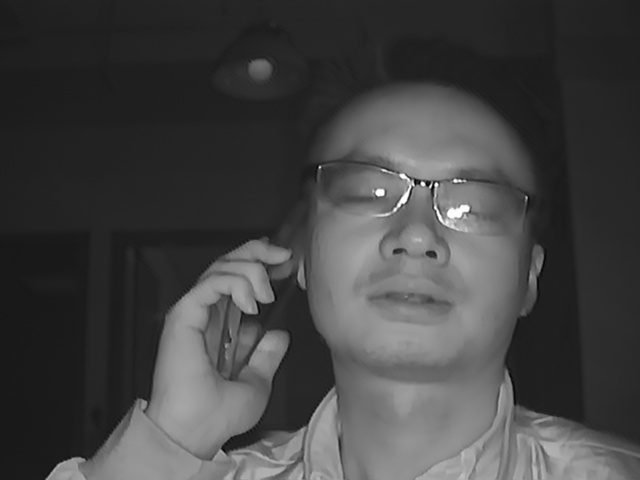hand: (146, 232, 292, 448)
